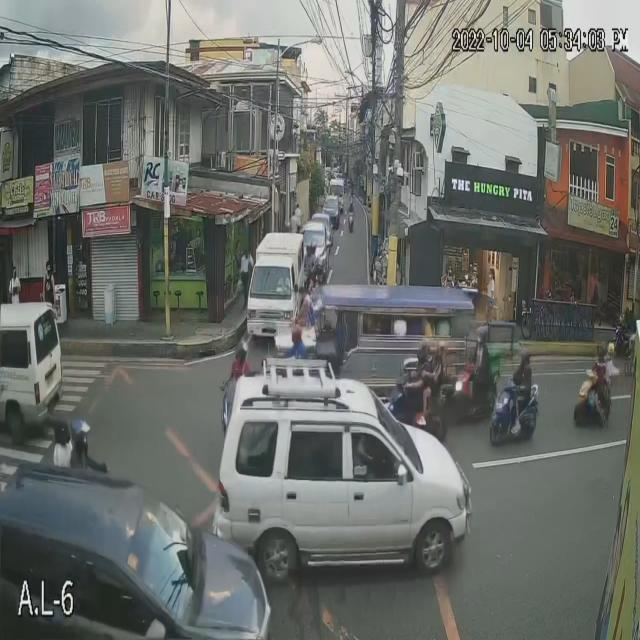full: (418, 338, 431, 362)
half: (235, 341, 248, 366), (476, 324, 488, 346), (436, 340, 447, 359), (520, 346, 530, 365), (291, 326, 301, 344)
